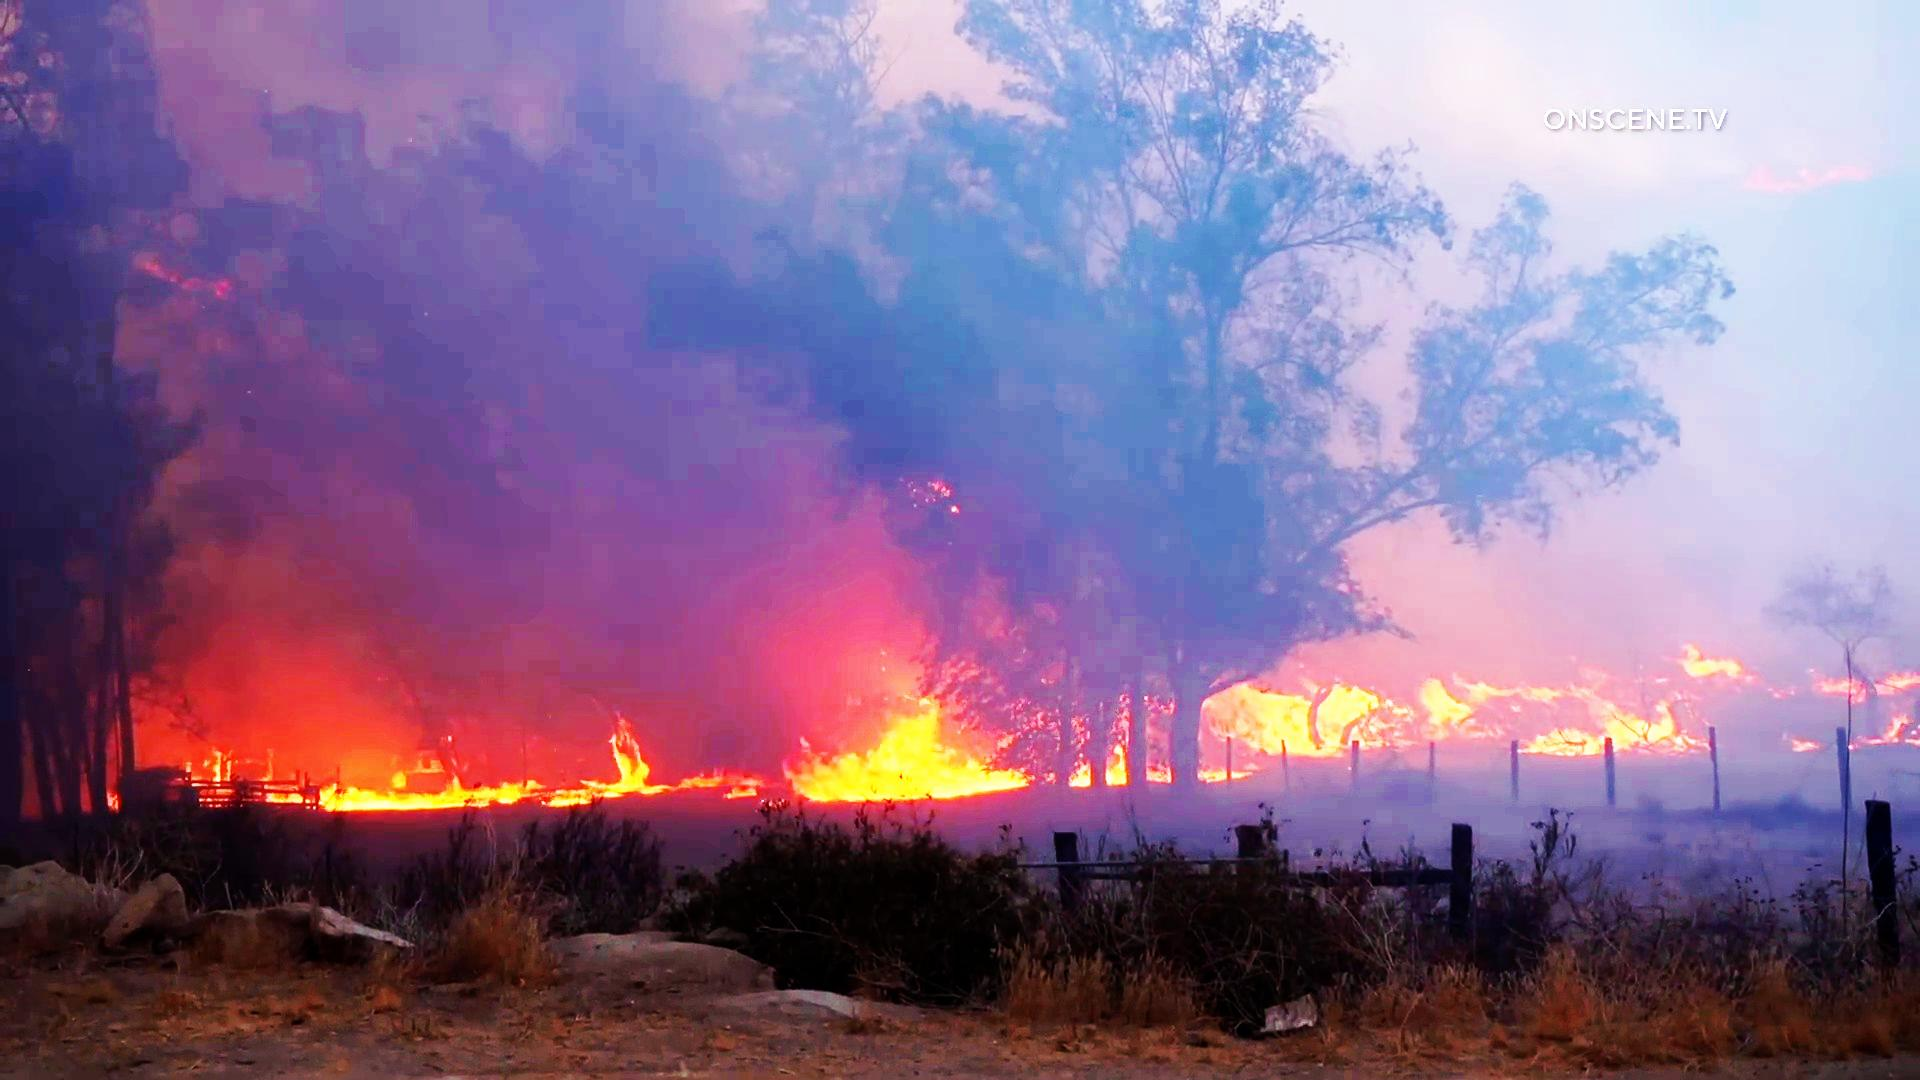fire: (789, 673, 1004, 802), (314, 736, 655, 815), (1520, 673, 1688, 757), (1197, 675, 1373, 749)
smoke: (231, 538, 777, 704)
